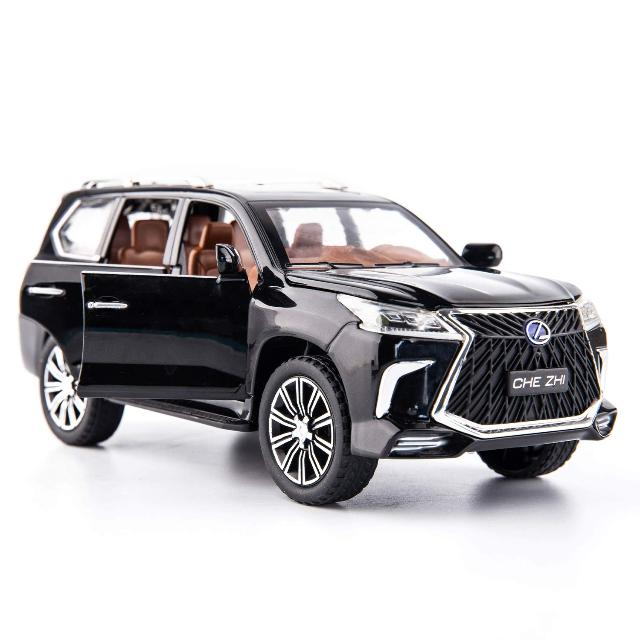lexus: (18, 180, 620, 504)
